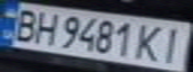1: (112, 19, 139, 58)
4: (75, 15, 100, 53)
8: (93, 17, 118, 55)
9: (54, 13, 81, 51)
B: (6, 6, 42, 43)
H: (30, 9, 60, 46)
I: (154, 24, 190, 65)
K: (133, 21, 169, 63)
